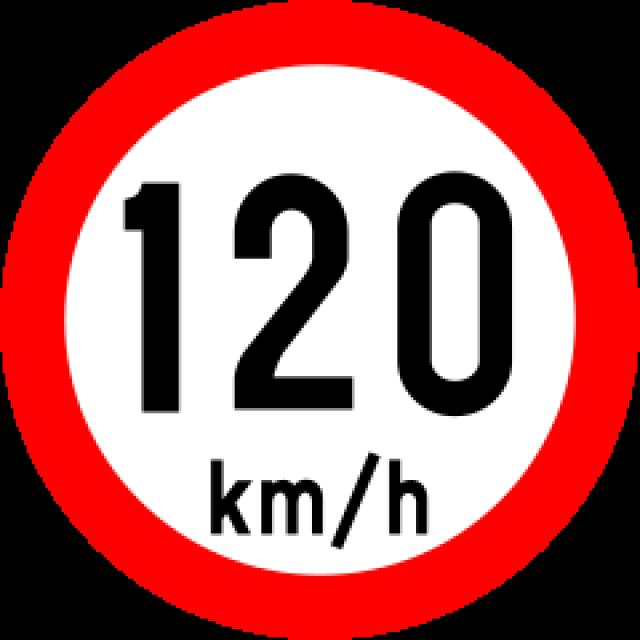Speed Limit -120-: (90, 170, 552, 438)
